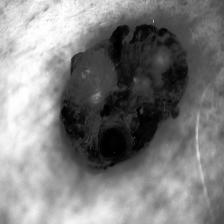Benign Marking or Mole: (60, 23, 190, 172)
